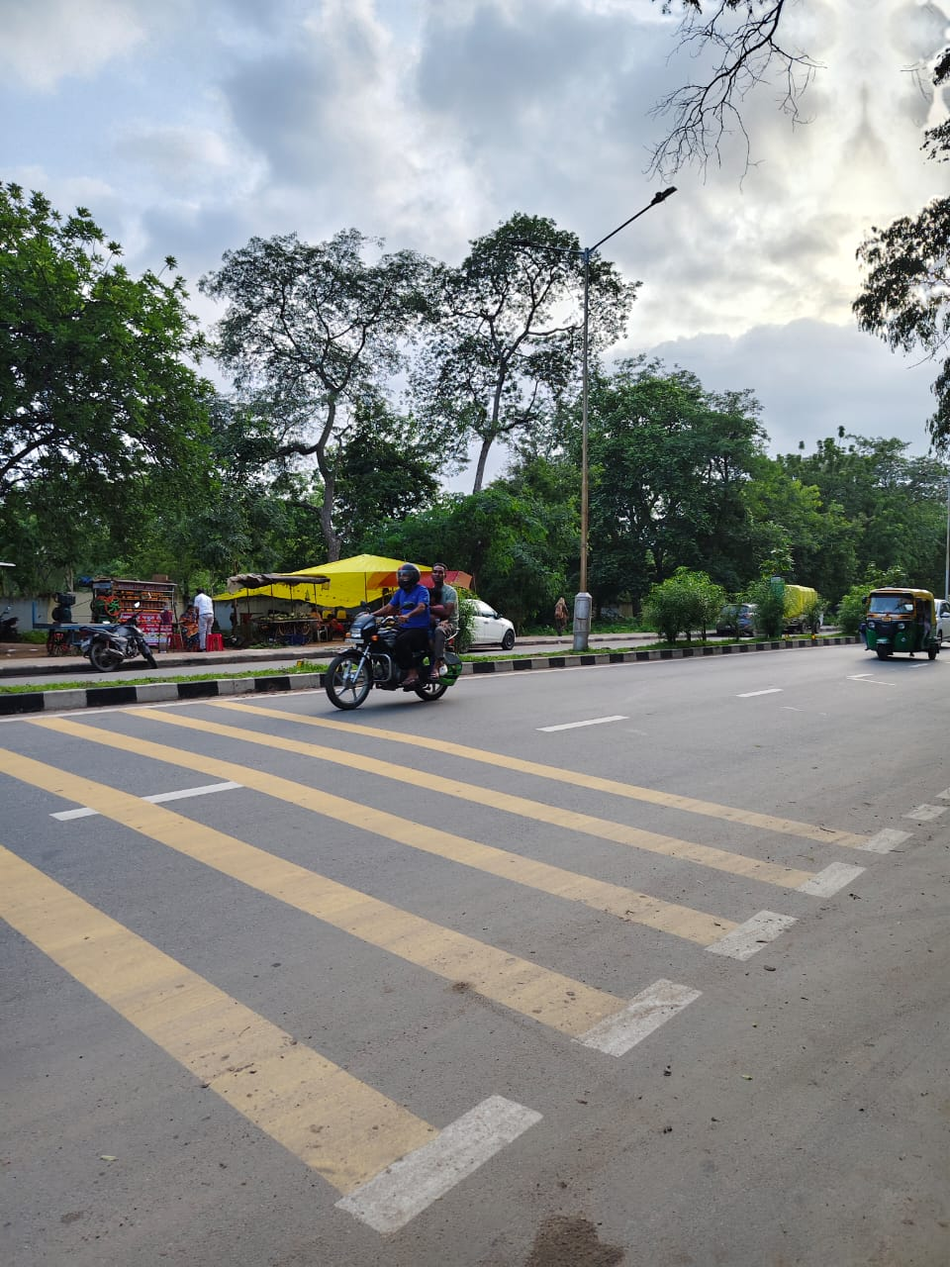BikeWithRider: (313, 558, 460, 714)
Helmet: (393, 561, 422, 588)
NoHelmet: (427, 562, 450, 584)
